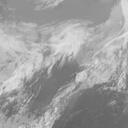cyclone: (53, 22, 113, 68)
